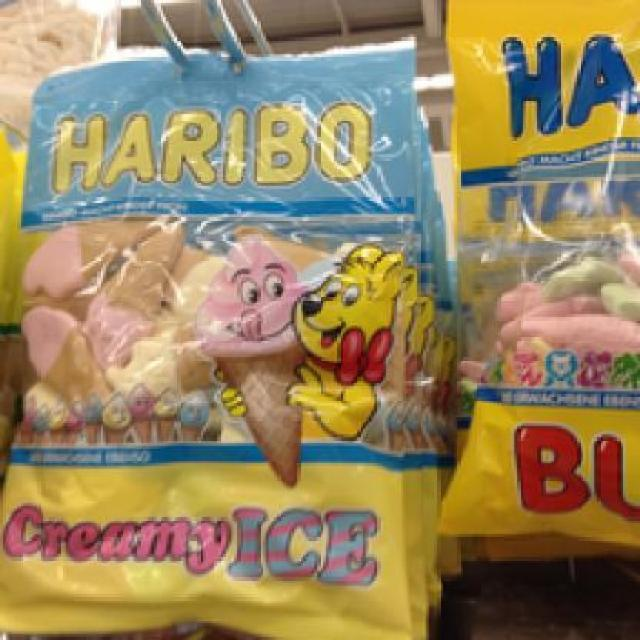Candy: (0, 40, 420, 637)
